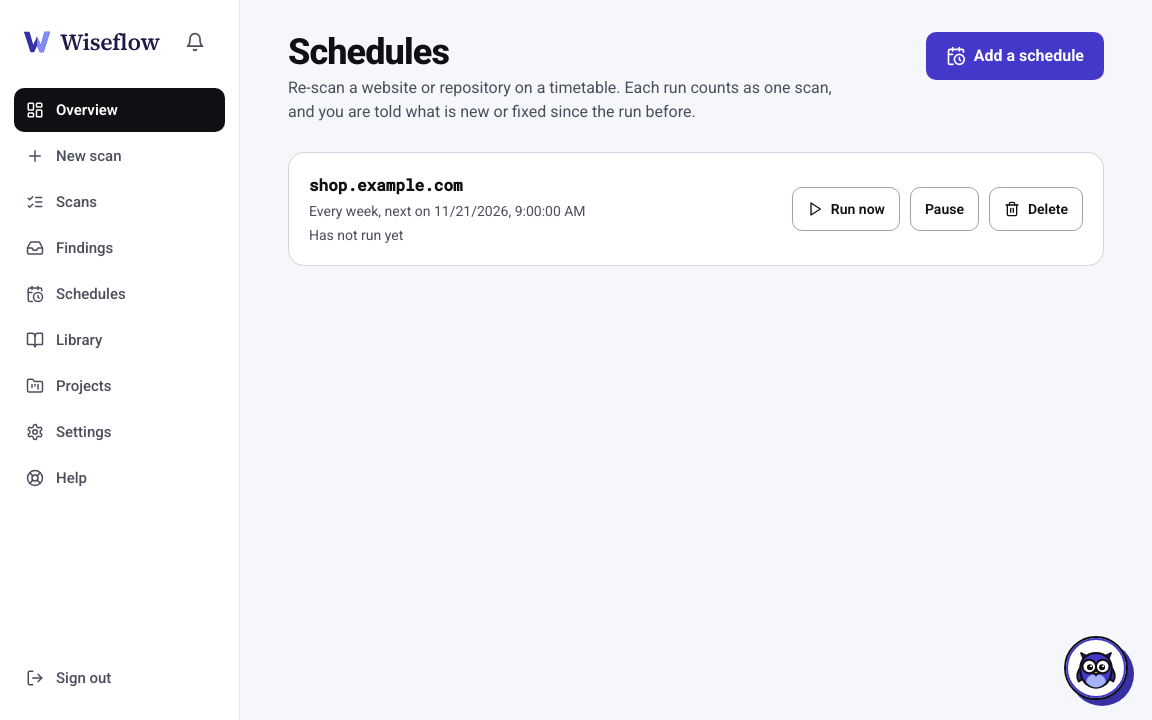
Test: SchedulesPage › pauses a schedule and says so
This screenshot has width=1152, height=720.
Click the button "Pause". click: (944,209)
box: [910,187,979,231]
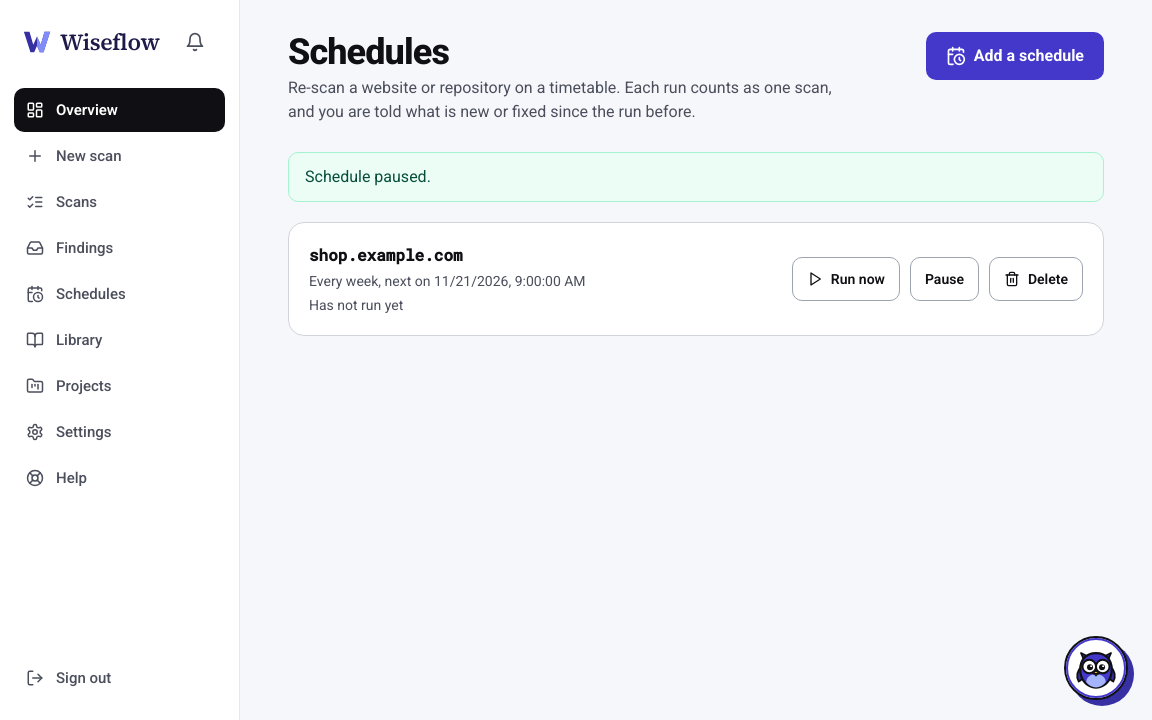
expect the message reads "Schedule paused.": met, box [305,167,431,186]
